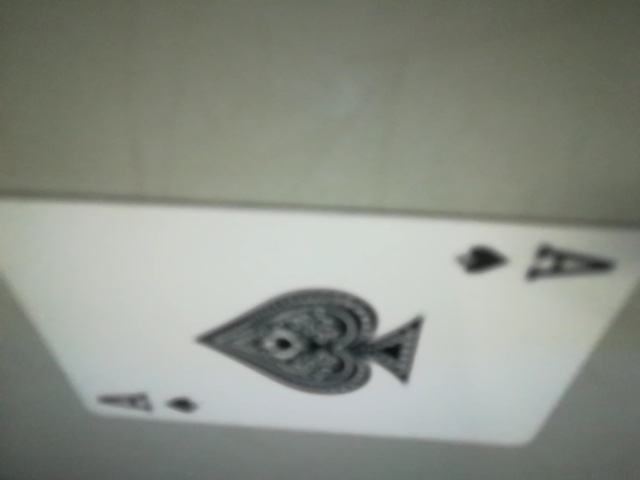ht a: (426, 227, 640, 292), (83, 382, 235, 427)
